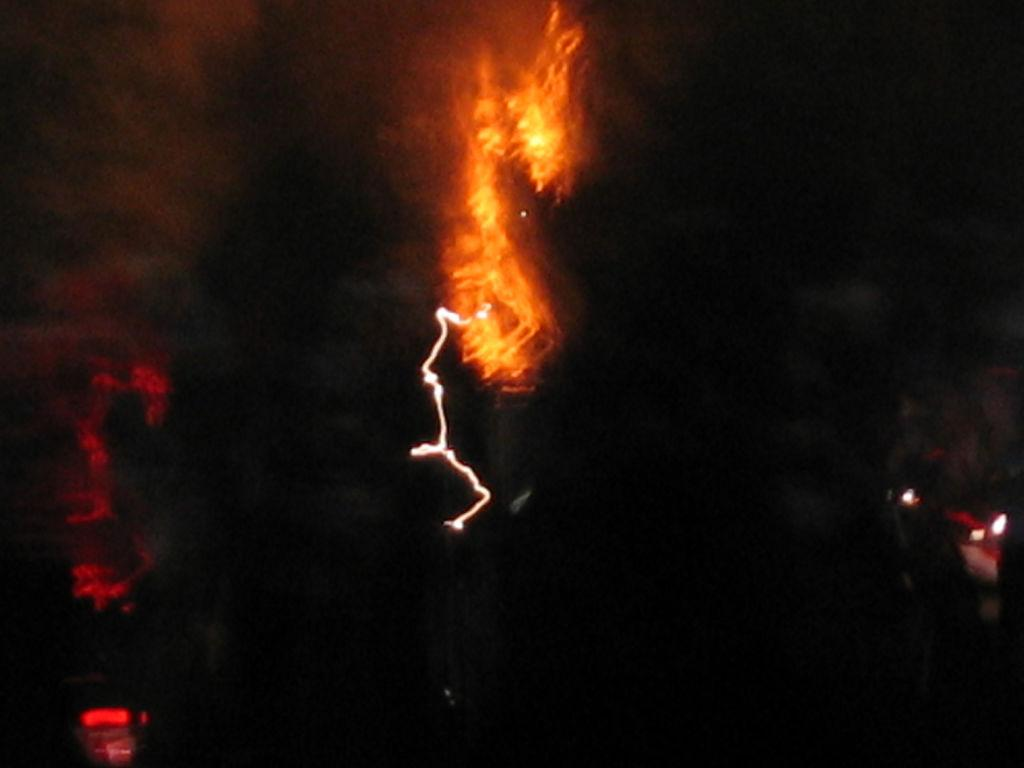fire: (464, 258, 524, 364), (526, 88, 560, 174)
